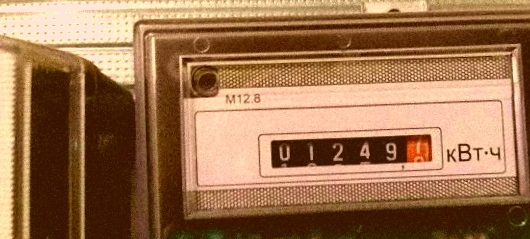0: (277, 141, 292, 161)
1: (304, 140, 317, 161)
2: (329, 139, 346, 162)
4: (358, 138, 371, 159)
7: (412, 133, 425, 154)
9: (384, 139, 398, 161)
screen: (254, 122, 447, 179)
